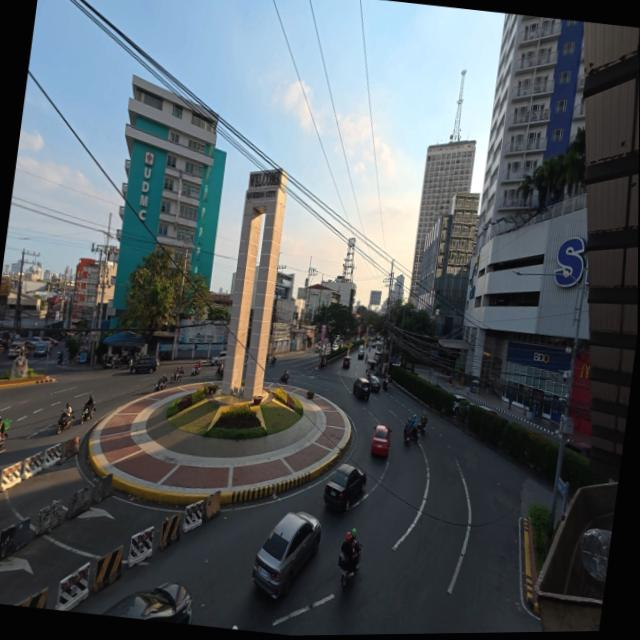Jeepneys: (366, 360, 377, 377)
car: (253, 512, 321, 597), (103, 583, 192, 624), (323, 464, 366, 512), (371, 425, 391, 456), (565, 440, 592, 458), (131, 356, 159, 373), (353, 379, 370, 399), (453, 394, 469, 412), (479, 405, 499, 416), (211, 352, 226, 366), (369, 375, 381, 392), (342, 356, 350, 369), (373, 351, 380, 361), (332, 343, 339, 351), (358, 350, 363, 360), (315, 344, 320, 352)
motorcycle: (339, 549, 361, 587), (57, 414, 74, 434), (80, 404, 95, 424), (420, 413, 428, 434), (154, 380, 167, 392), (404, 425, 412, 444), (214, 364, 224, 379), (410, 427, 419, 442), (103, 358, 115, 369), (0, 432, 7, 448), (279, 373, 289, 384), (171, 372, 180, 382), (57, 352, 63, 365), (191, 367, 199, 376), (269, 357, 276, 366), (383, 380, 388, 391)
vans: (8, 343, 22, 359)
